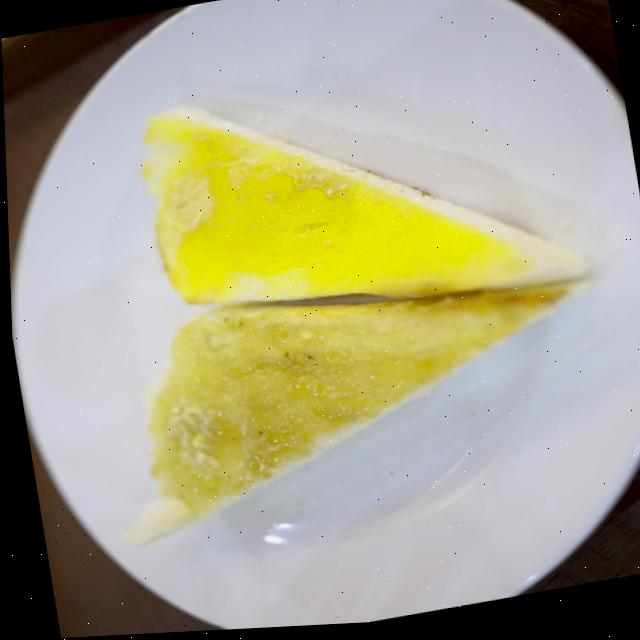面包点心: (49, 32, 600, 572)
